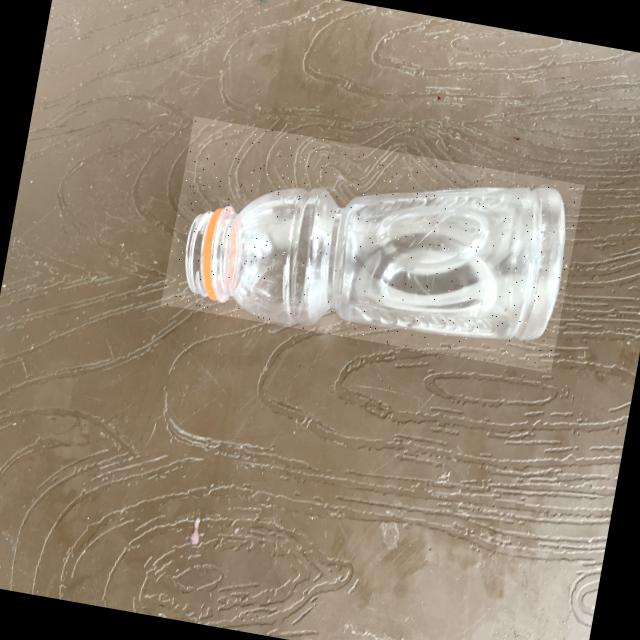PET_With_Cap: (161, 115, 584, 372)
